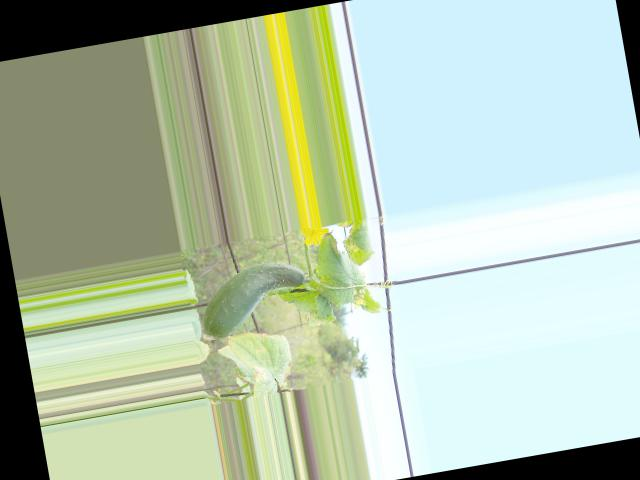cucumber: (195, 256, 314, 341)
